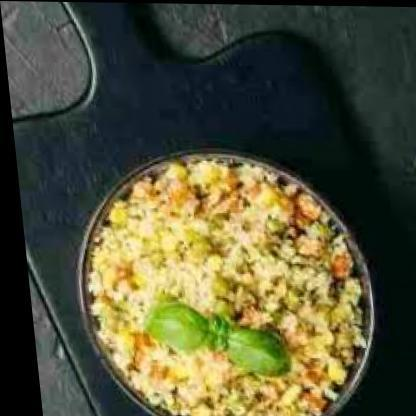poha: (70, 154, 366, 416)
